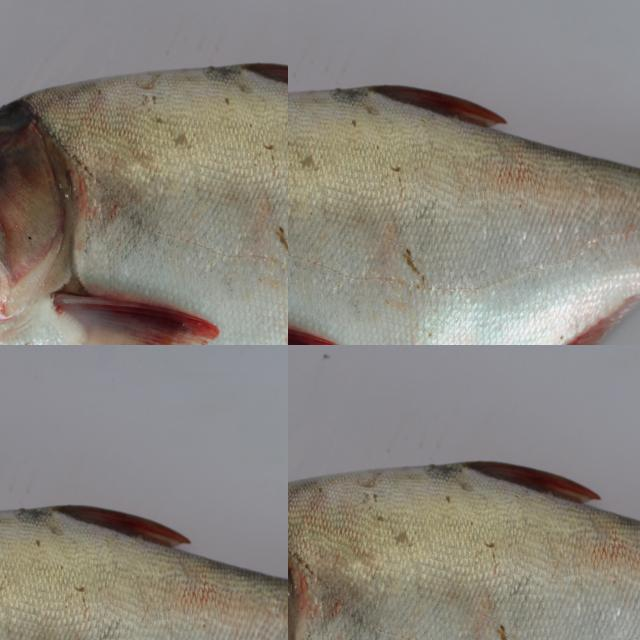fish: (288, 0, 640, 345), (288, 408, 640, 640)
